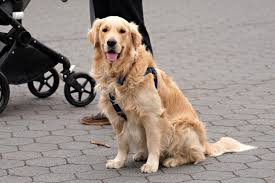Golden Retriever: (76, 9, 257, 178)
